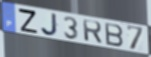3: (63, 16, 80, 41)
7: (126, 24, 144, 52)
B: (104, 22, 125, 48)
J: (40, 13, 60, 37)
R: (82, 18, 103, 45)
Z: (17, 7, 39, 35)
